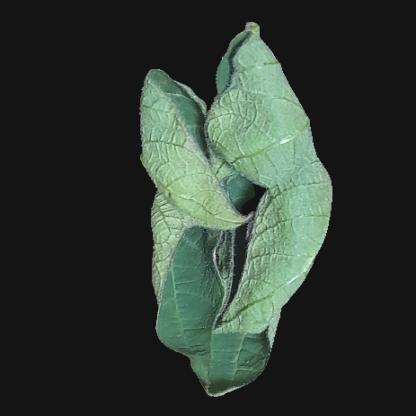curl_stage2: (166, 209, 302, 289), (231, 70, 291, 178), (169, 297, 269, 341), (146, 116, 225, 168)
